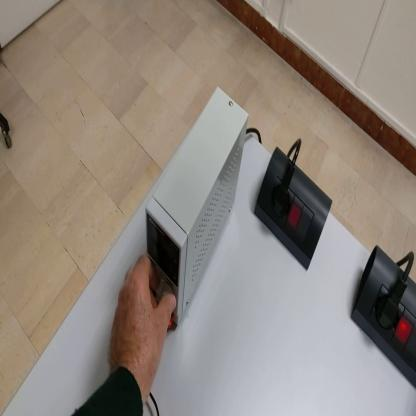hand: (111, 256, 176, 391)
power supply: (147, 90, 251, 328)
socket: (257, 141, 335, 284), (352, 243, 416, 388)
